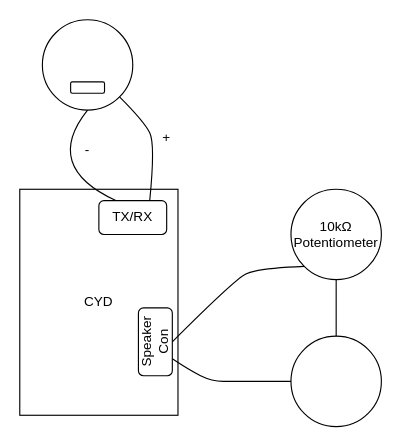
Image size: 401x446. Some labels were removed from this diagram. The centre of each missing label's shape, as x and y in pixels:
"5 Watt Speaker" belongs at [335,381].
"Female USB C" belongs at [87,64].
